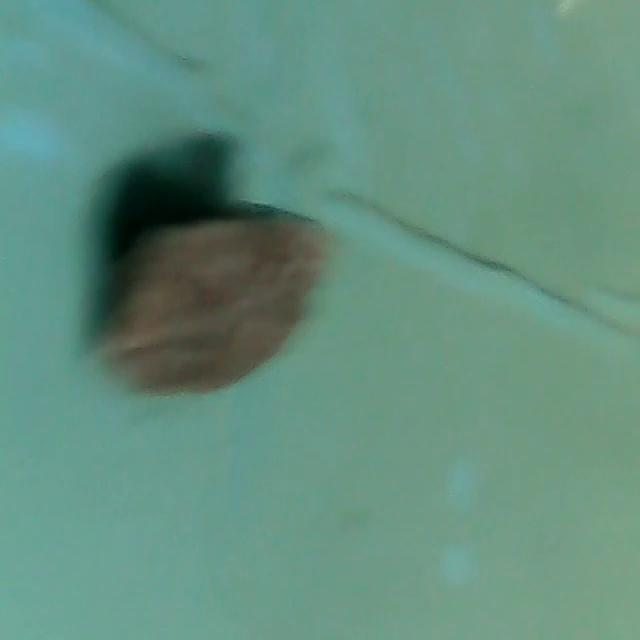rock: (84, 191, 336, 415)
